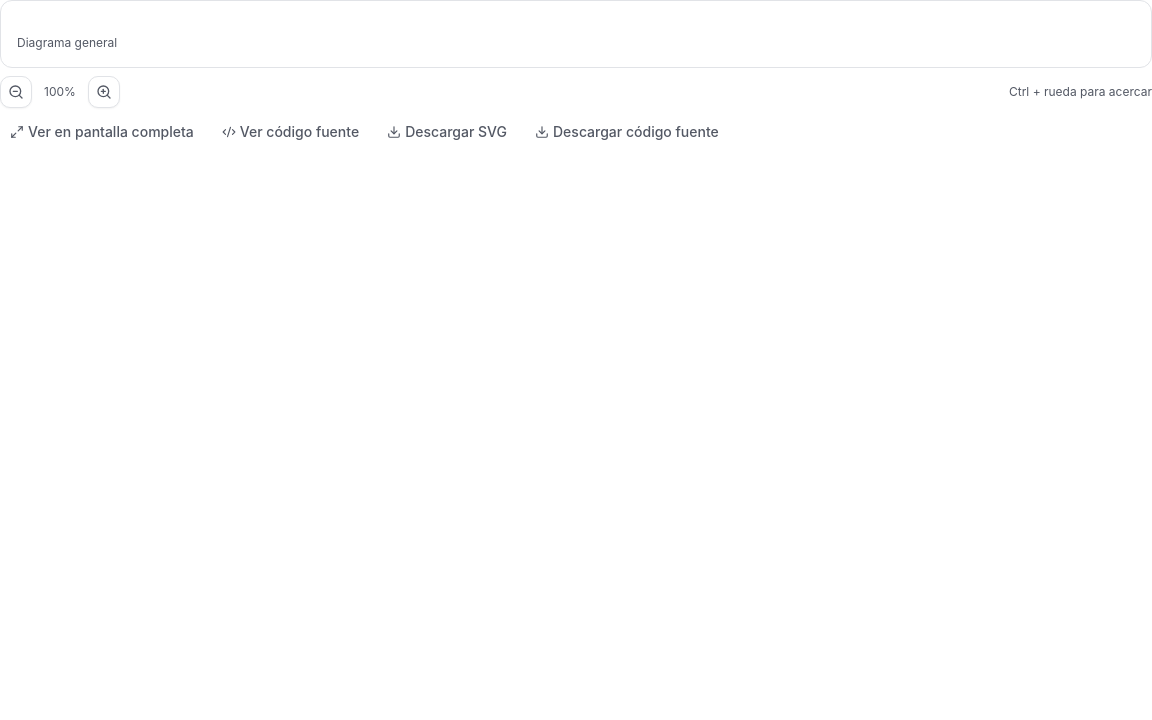
DiagramViewer — fullscreen mode › closes fullscreen mode with the Escape key
Click the button "Ver en pantalla completa" at point(102, 132), box [0, 116, 204, 148]
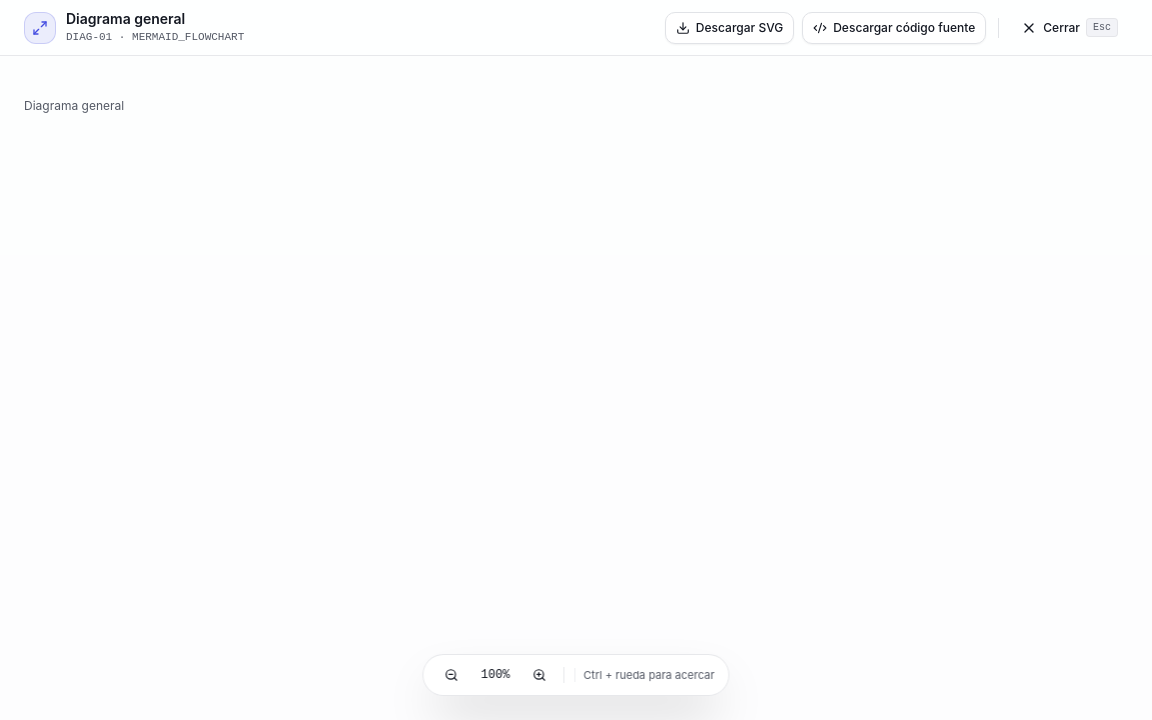
Now the dialog is shown
// Press Escape
Press Escape
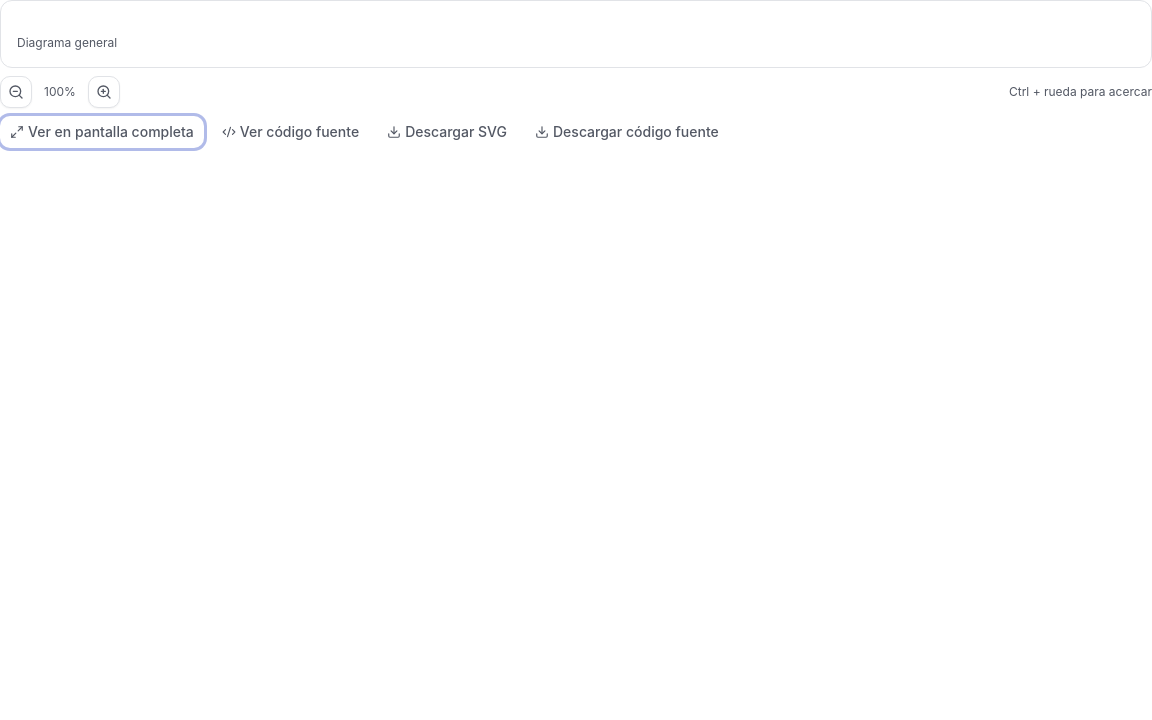
Now the dialog is gone
